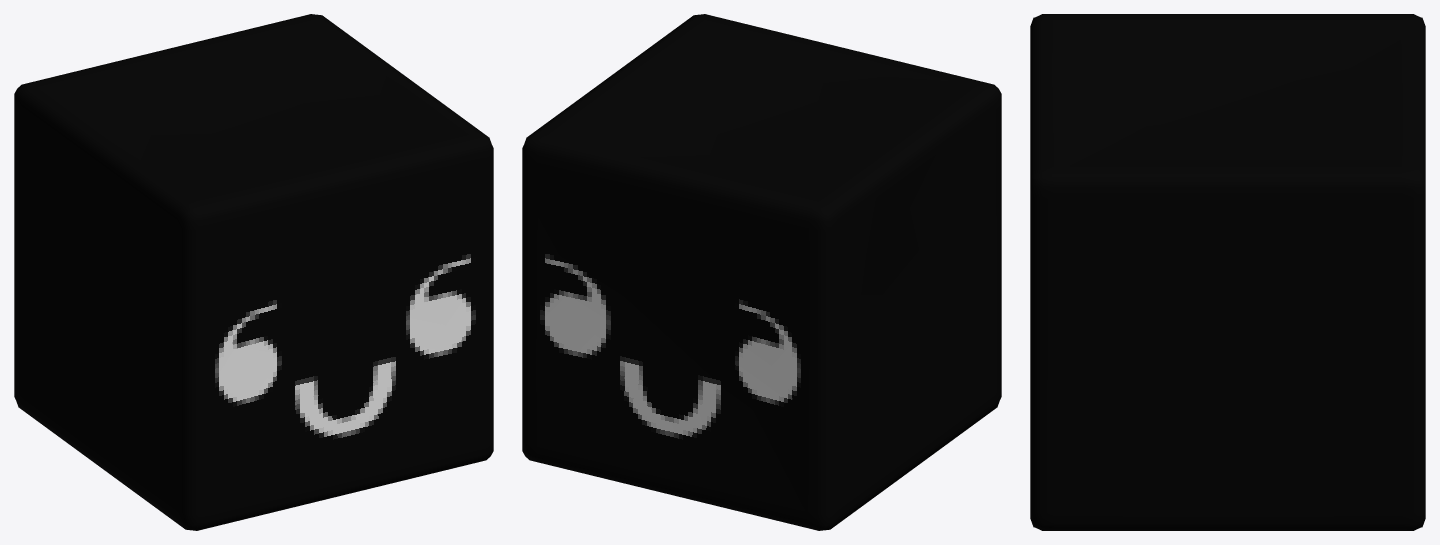
The model's file is cube_player.dae.
The picture shows the model from 3 angles, left to right: view 1: azimuth 30°, elevation 25°; view 2: azimuth 150°, elevation 25°; view 3: azimuth 270°, elevation 25°; orthographic projection. The views are drawn at different scales.
Parts seen in each view (by area): view 1: 立方体; view 2: 立方体; view 3: 立方体.
Part boxes in pixels (x1=…): 立方体: x1=14, y1=14, x2=493, y2=530; 立方体: x1=522, y1=14, x2=1001, y2=530; 立方体: x1=1030, y1=14, x2=1425, y2=530.
Bounding box in the file's own units: 1 × 1 × 1.
1 material, 1 textured.
